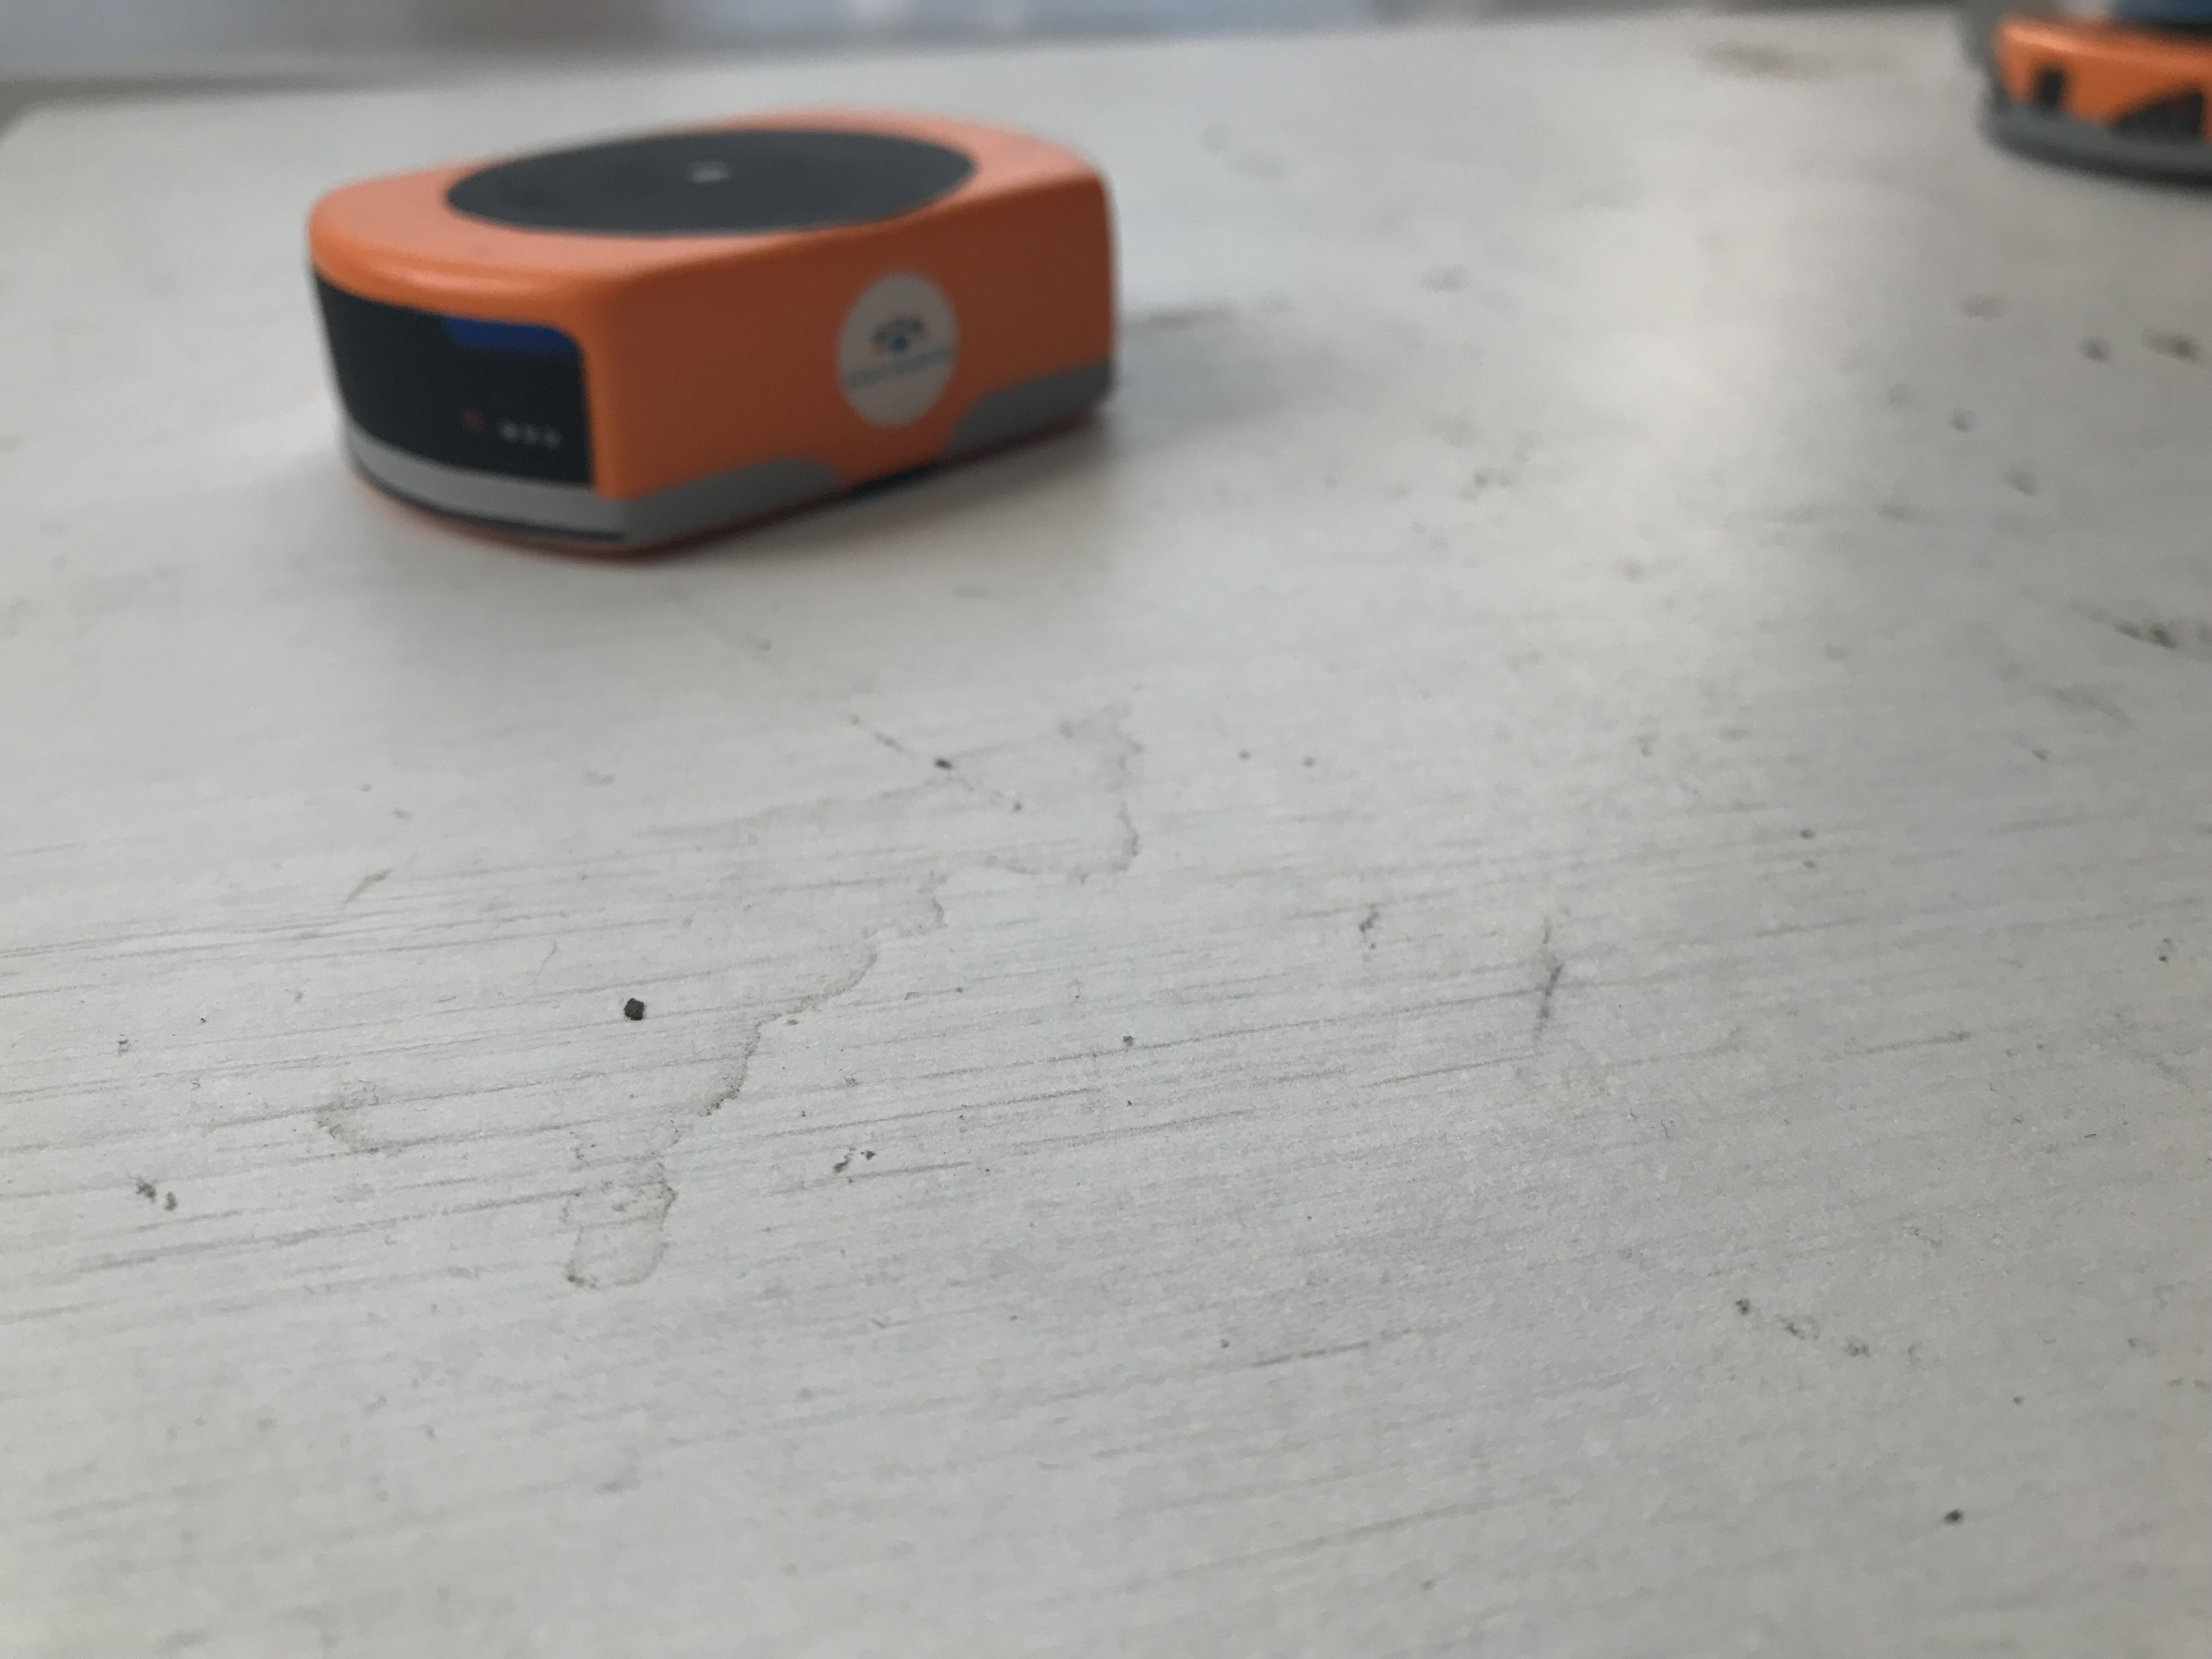amazon_bot: (289, 82, 1179, 592)
